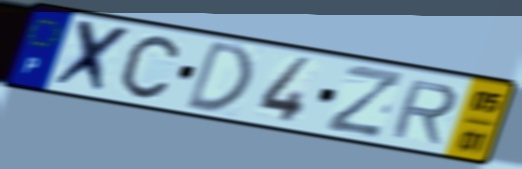4: (253, 55, 315, 127)
C: (119, 33, 183, 101)
D: (181, 37, 255, 114)
R: (387, 77, 462, 147)
X: (47, 17, 136, 99)
Z: (322, 62, 408, 140)
